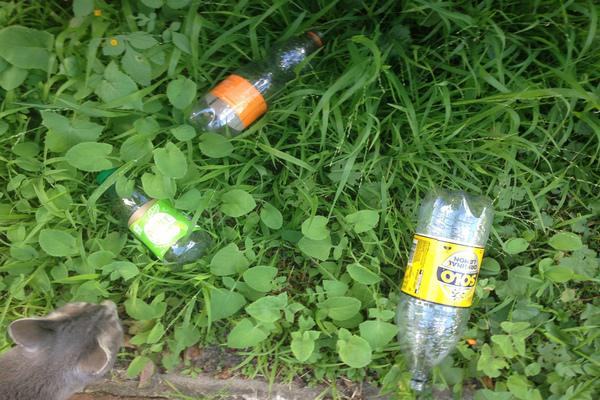Plastic Bottle: (395, 186, 496, 391), (185, 28, 329, 132), (96, 167, 206, 262)
